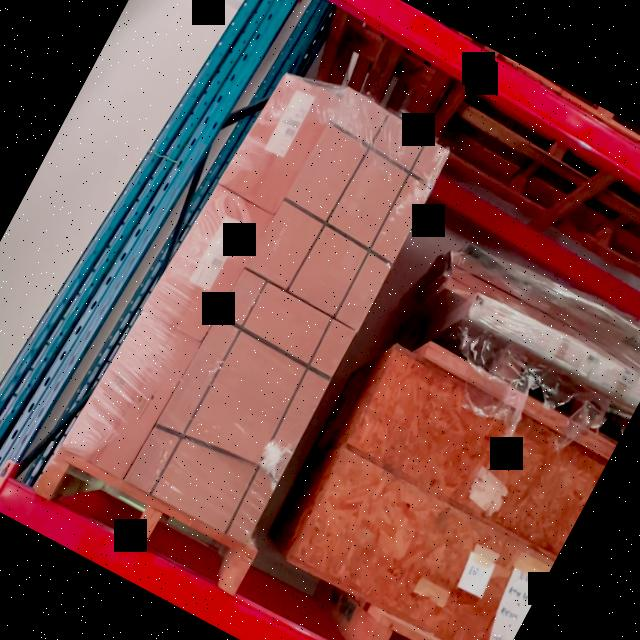box: (128, 274, 355, 542), (248, 95, 448, 327), (67, 309, 196, 478), (148, 185, 272, 340), (222, 68, 340, 214)
